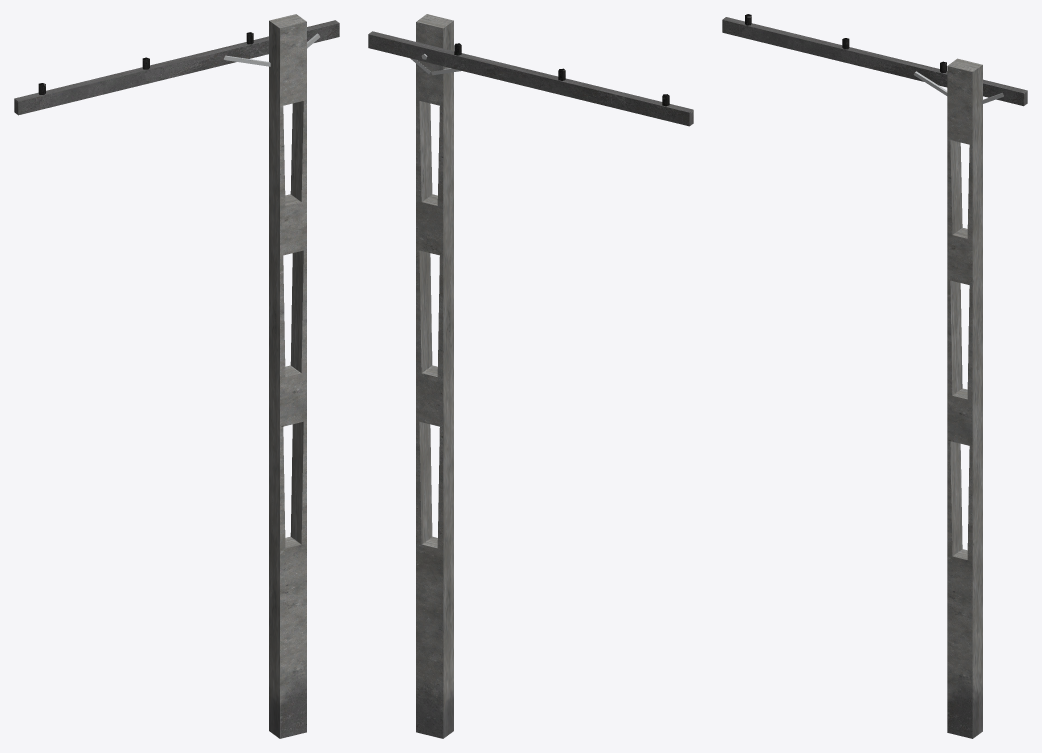
File: concrete_pole.glb
3 renders of one model, left to right at view 1: azimuth 30°, elevation 25°; view 2: azimuth 150°, elevation 25°; view 3: azimuth 330°, elevation 25°, orthographic. The views are drawn at different scales.
Visible parts, largest first — view 1: ConcretePole_ConcretePole_0; view 2: ConcretePole_ConcretePole_0; view 3: ConcretePole_ConcretePole_0.
Part boxes in pixels (box(x1,y1,x2,y2)): ConcretePole_ConcretePole_0: box(14, 14, 339, 738); ConcretePole_ConcretePole_0: box(368, 14, 693, 738); ConcretePole_ConcretePole_0: box(722, 14, 1027, 738).
Bounding box in the file's own units: 237 × 500 × 20.21.
1 material, 1 textured.
